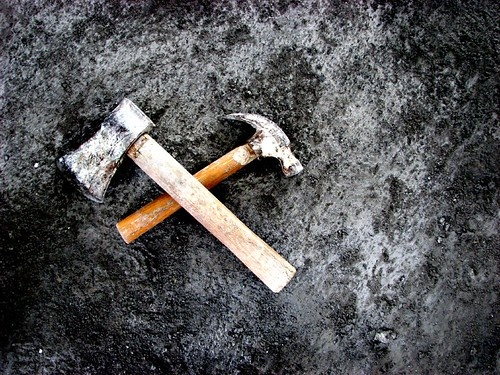hammer: (114, 110, 308, 254)
